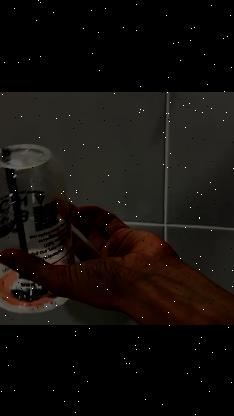Others: (0, 141, 72, 311)
